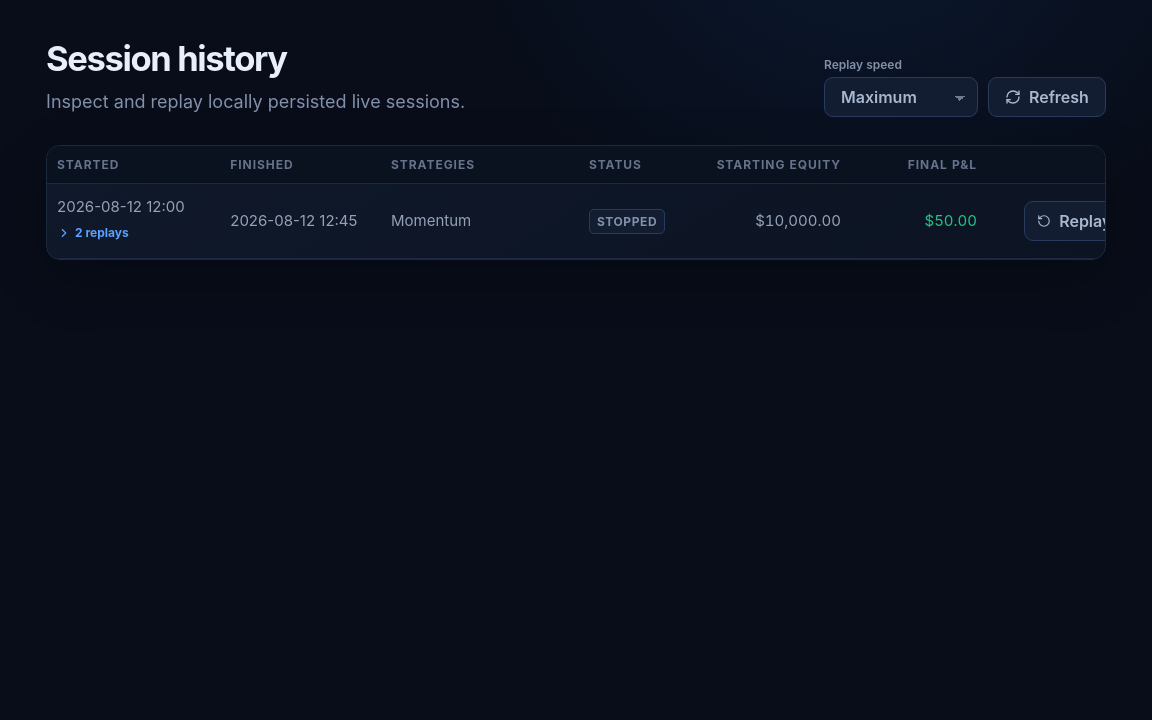
live session history page › groups every replay beneath its original session
This screenshot has width=1152, height=720.
Check: the number of rows with class "session-history-row" is 1, box [47,183,1105,258]
Click the button with class "session-replay-toggle": (93, 233) [57,221,129,245]
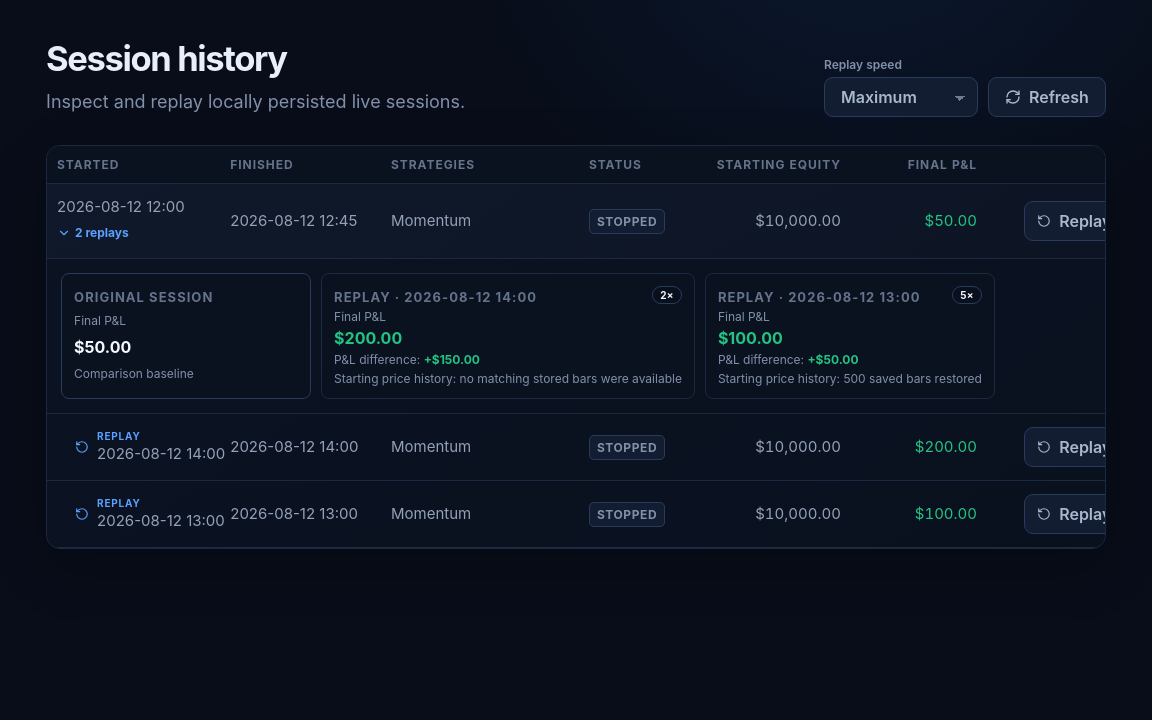
Check: the button with class "session-replay-toggle" is expanded
Check: the number of rows with class "session-replay-row" is 2, box [47,413,1105,480]; [47,480,1105,547]
Check: the row with class "session-replay-row" shows "$200.00", box [915,437,977,456]
Click the button with class "session-replay-toggle": (93, 233) [57,221,129,245]
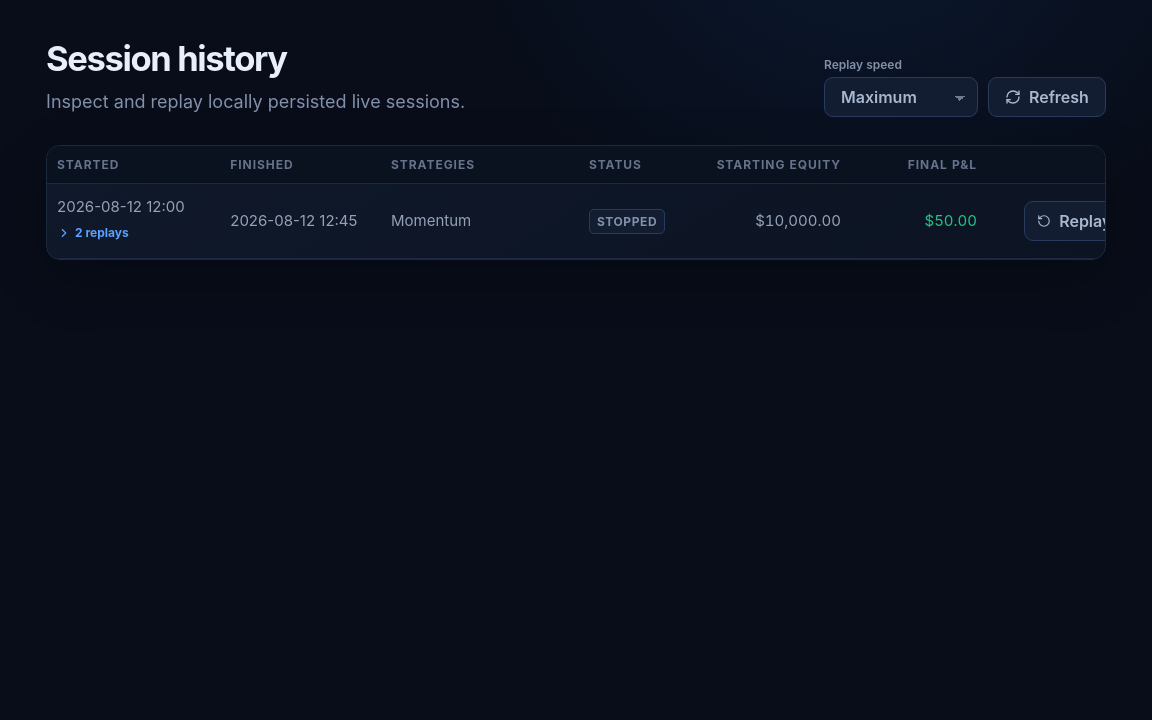
Check: no rows with class "session-replay-row" are shown
